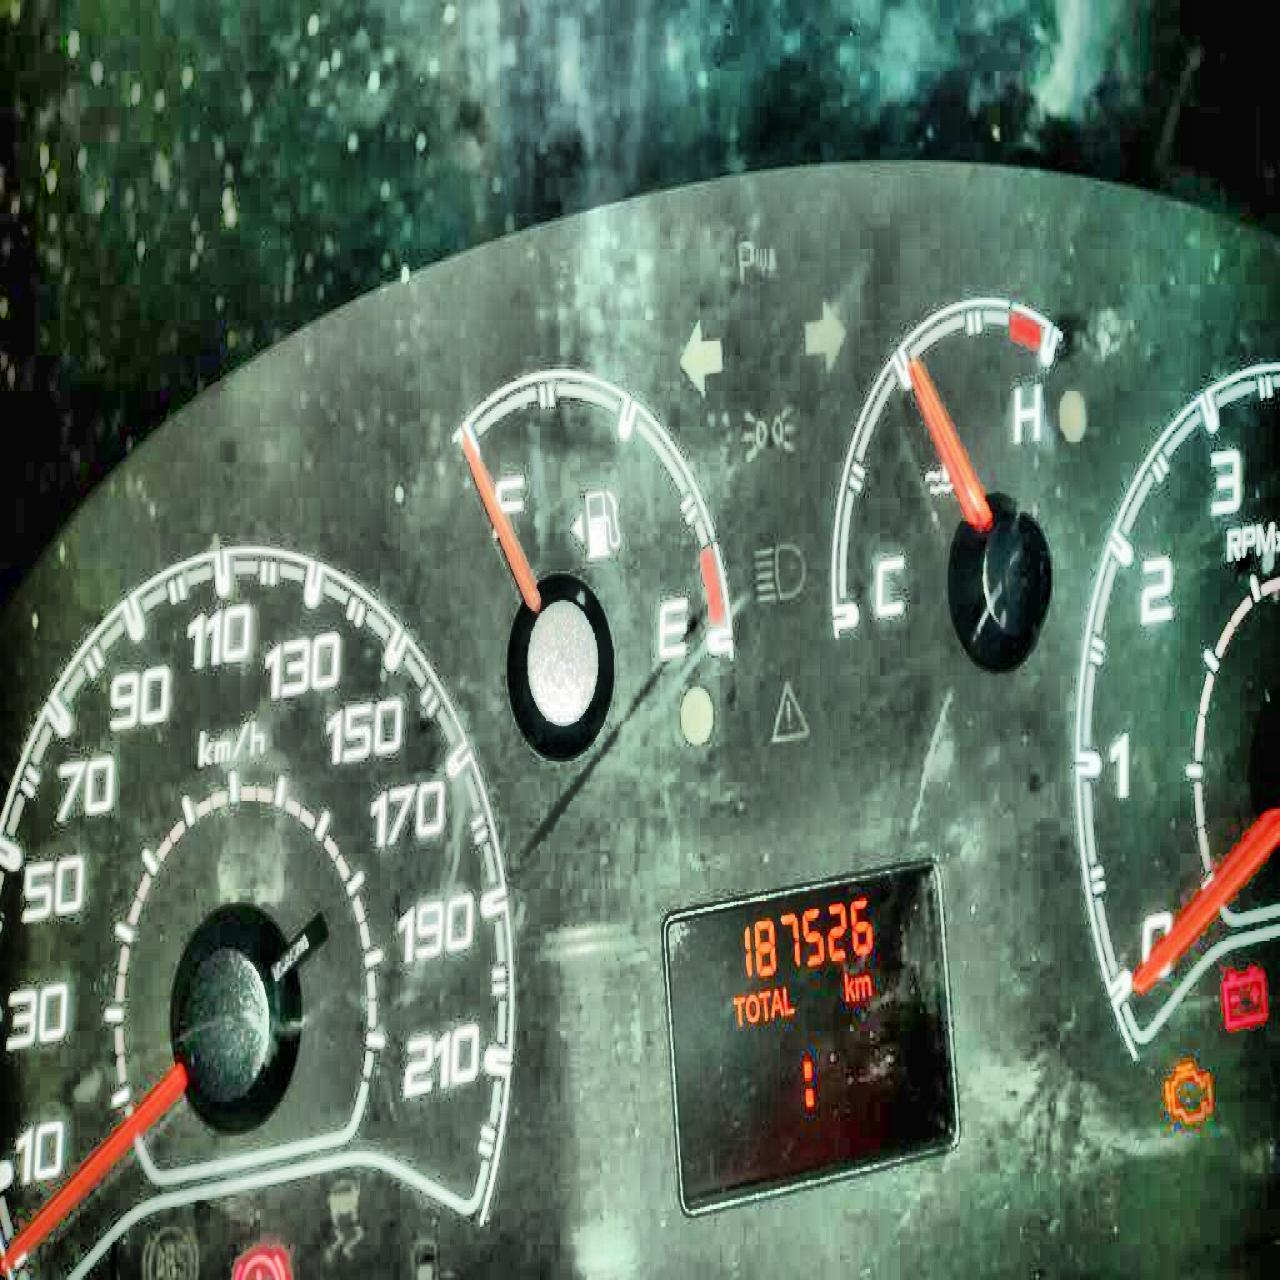1: (740, 915, 754, 980)
2: (826, 898, 846, 965)
5: (802, 905, 824, 967)
6: (850, 891, 874, 960)
7: (778, 908, 802, 969)
8: (754, 913, 775, 974)
X: (799, 1049, 816, 1114), (781, 982, 795, 1016), (731, 992, 744, 1027), (745, 990, 760, 1022), (853, 973, 871, 998), (760, 987, 770, 1024), (770, 987, 782, 1017), (843, 969, 853, 1000)
odometer: (659, 846, 967, 1220)
